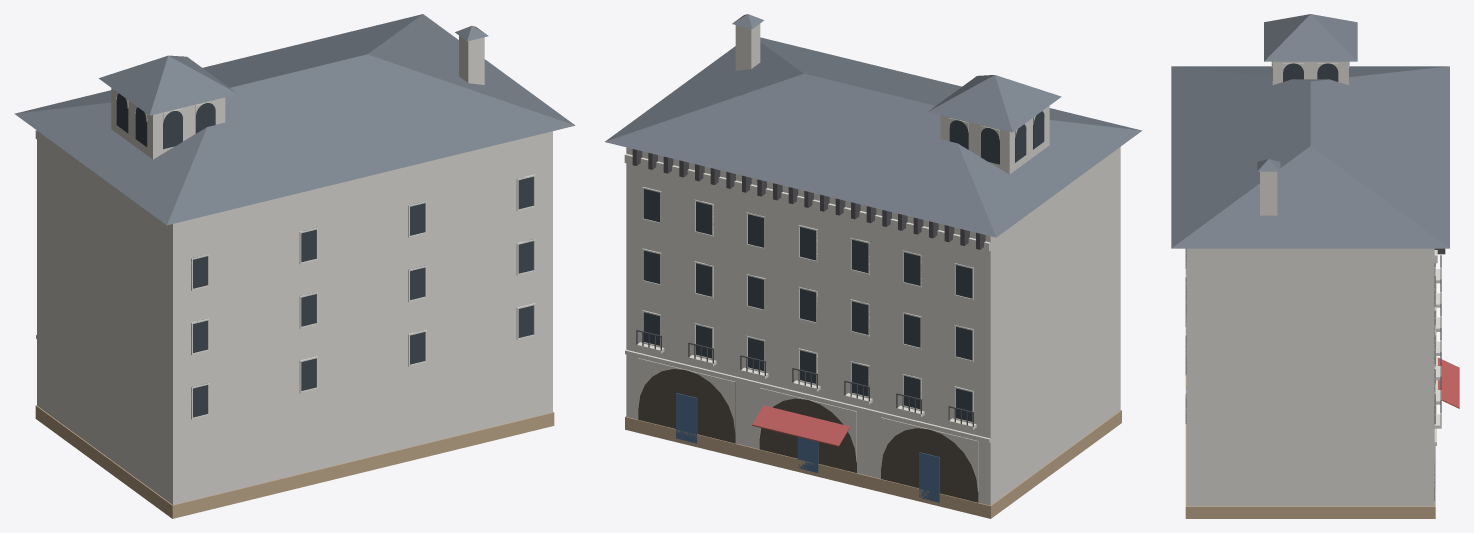
Rendered from ca_classical4_shops.glb.
The picture shows the model from 3 angles, left to right: view 1: azimuth 30°, elevation 25°; view 2: azimuth 150°, elevation 25°; view 3: azimuth 270°, elevation 25°; orthographic projection. The views are drawn at different scales.
Parts seen in each view (by area): view 1: ca_classical4_shops; view 2: ca_classical4_shops; view 3: ca_classical4_shops.
Boxes of the visible parts, x1,y1,x2,y2 form: ca_classical4_shops: (14, 14, 575, 518); ca_classical4_shops: (605, 14, 1141, 518); ca_classical4_shops: (1171, 14, 1459, 518).
Bounding box in the file's own units: 22.6 × 21 × 15.1.
